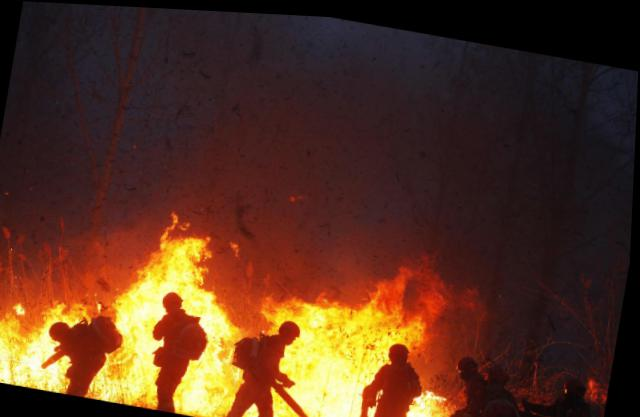fire: (0, 186, 480, 415)
